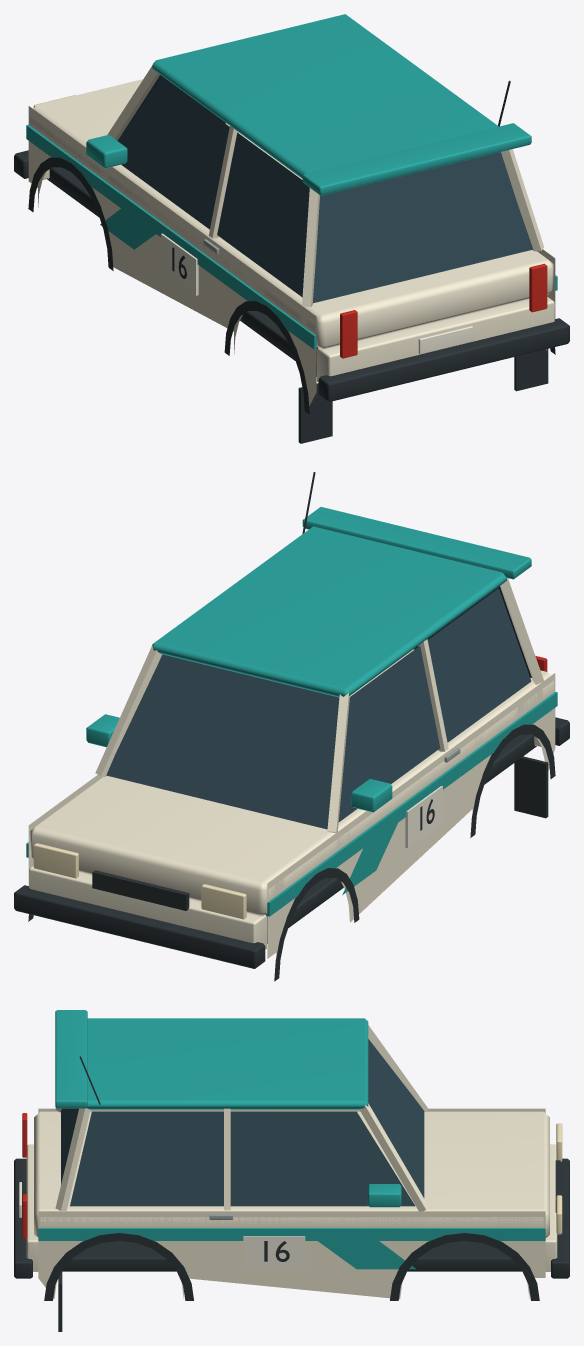
The picture shows the model from 3 angles, top to bottom: view 1: azimuth 30°, elevation 25°; view 2: azimuth 150°, elevation 25°; view 3: azimuth 270°, elevation 25°; orthographic projection. The views are drawn at different scales.
Parts seen in each view (by area): view 1: Roof, Rear glass, Side glass, Upper body, Wheel opening body.014, Rear bumper, Roof spoiler, Rear valance, Waist stripe, Sill floor, Mud flap, Number plate (+11 smaller); view 2: Roof, Upper body, Windscreen, Side glass, Front bumper, Front valance, Wheel opening body.014, Roof spoiler, Waist stripe, Sill floor, Mud flap, Grille (+11 smaller); view 3: Side glass.001, Roof, Upper body, Wheel opening body.043, Waist stripe.001, Sill floor, Windscreen, Roof spoiler, Number plate.001, Diagonal teal block.001, Rear bumper, Pillar.002 (+11 smaller).
Part boxes in pixels (x1,y1,x2,y2): Roof: (152, 14, 498, 178); Rear glass: (313, 152, 533, 303); Side glass: (118, 77, 309, 297); Upper body: (30, 79, 553, 350); Wheel opening body.014: (111, 167, 234, 331); Rear bumper: (318, 318, 569, 401); Roof spoiler: (302, 123, 531, 195); Rear valance: (317, 297, 554, 382); Waist stripe: (26, 124, 316, 349); Sill floor: (47, 167, 317, 376); Mud flap: (298, 383, 332, 443); Number plate: (161, 233, 198, 295); Roof: (152, 526, 506, 697); Upper body: (30, 649, 553, 917); Windscreen: (106, 654, 339, 829); Side glass: (338, 588, 531, 822); Front bumper: (14, 885, 265, 968); Front valance: (29, 866, 266, 949); Wheel opening body.014: (350, 733, 473, 922); Roof spoiler: (302, 507, 531, 579); Waist stripe: (267, 691, 557, 916); Sill floor: (266, 734, 536, 943); Mud flap: (514, 756, 548, 818); Grille: (92, 870, 189, 910); Side glass.001: (70, 1111, 415, 1206); Roof: (87, 1018, 368, 1109); Upper body: (34, 1111, 549, 1237); Wheel opening body.043: (182, 1211, 399, 1299); Waist stripe.001: (38, 1228, 545, 1240); Sill floor: (61, 1241, 522, 1271); Windscreen: (368, 1039, 424, 1197); Roof spoiler: (55, 1010, 87, 1108); Number plate.001: (243, 1236, 305, 1268); Diagonal teal block.001: (318, 1241, 416, 1269); Rear bumper: (14, 1158, 32, 1278); Pillar.002: (359, 1103, 428, 1211).
Bounding box in the file's own units: 2 × 1.98 × 3.78.
